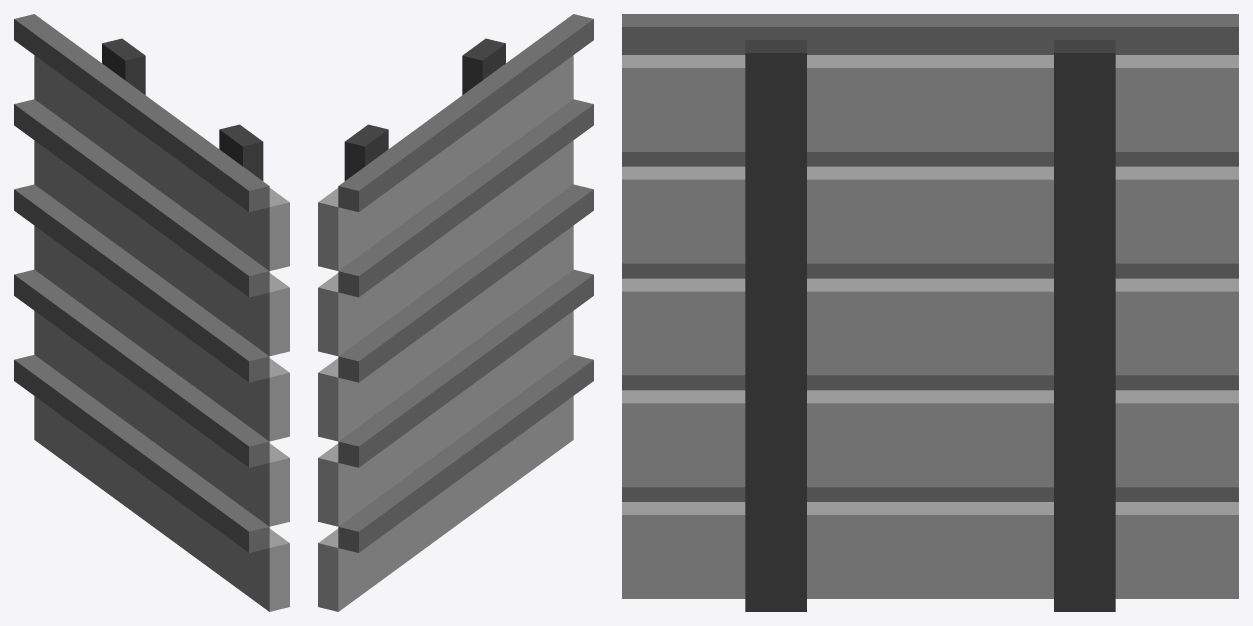
Rendered from wall.obj.
The picture shows the model from 3 angles, left to right: view 1: azimuth 30°, elevation 25°; view 2: azimuth 150°, elevation 25°; view 3: azimuth 270°, elevation 25°; orthographic projection. The views are drawn at different scales.
Parts seen in each view (by area): view 1: wall; view 2: wall; view 3: wall.
Part boxes in pixels (x1,y1,x2,y2): wall: [14, 14, 289, 611]; wall: [318, 14, 593, 611]; wall: [622, 14, 1238, 611].
Size of the model in its own units: 3 by 20 by 20.
1 material, 1 textured.
